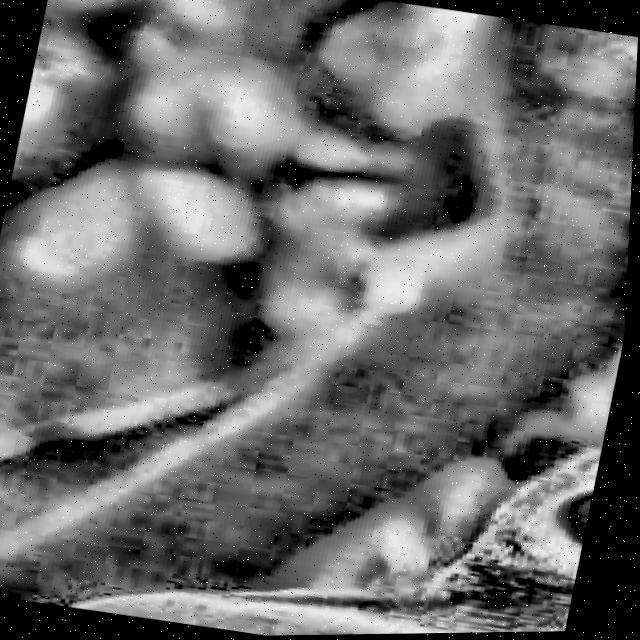rabbit: (0, 275, 621, 640)
